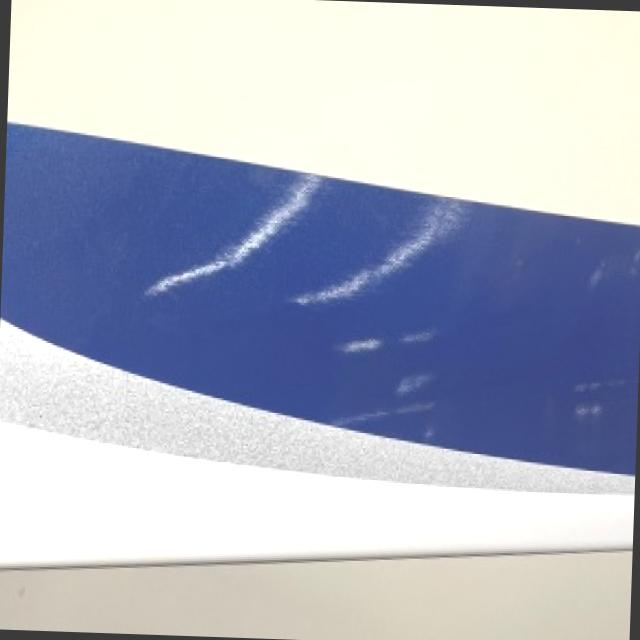healthy: (0, 121, 640, 565)
